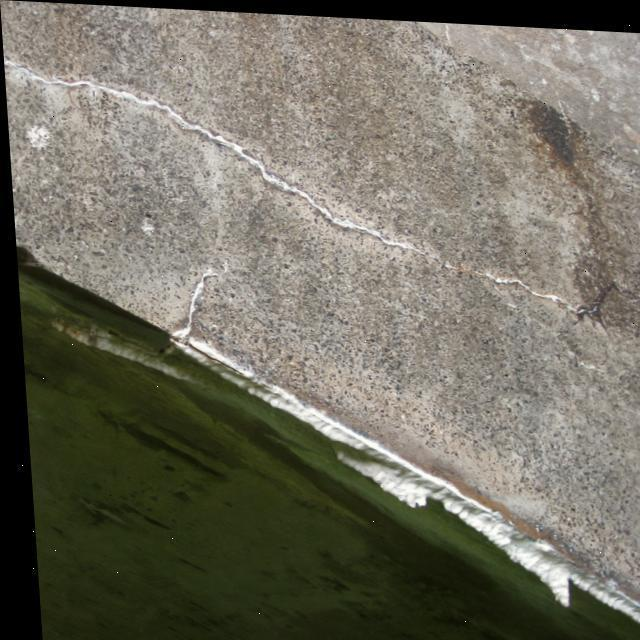D01: (186, 340, 639, 625), (6, 62, 265, 173), (486, 274, 526, 287)
